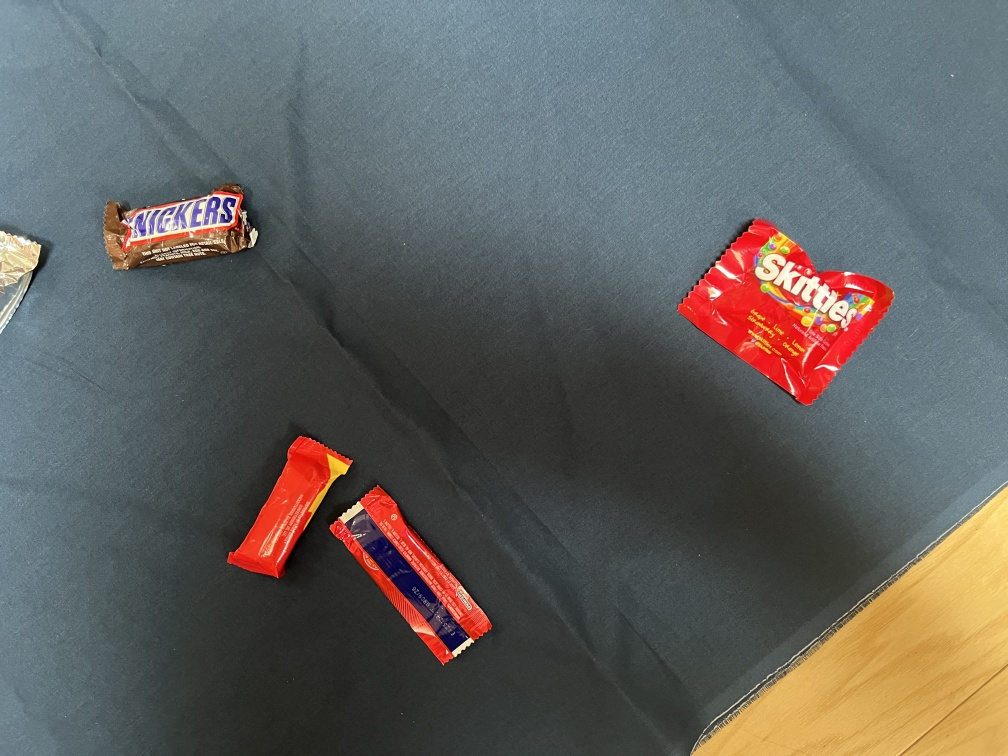airheads: (337, 482, 519, 671)
skittles: (681, 196, 900, 444)
snickers: (103, 189, 284, 307)
starbust: (208, 423, 347, 606)
